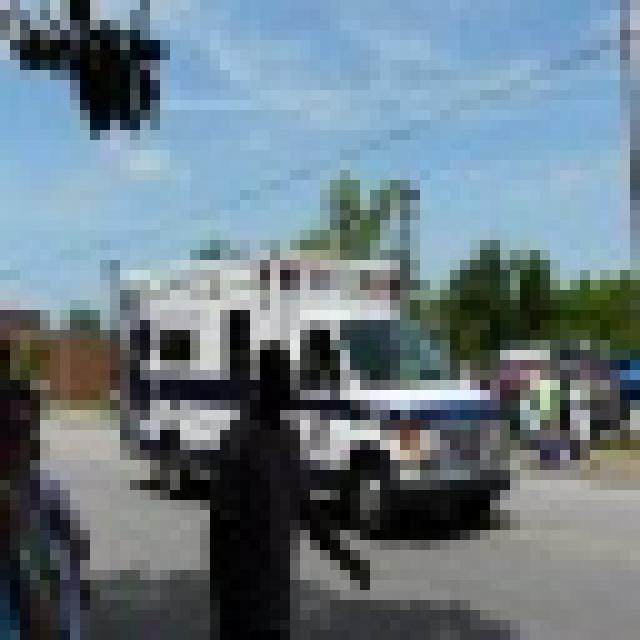Ambulance: (110, 250, 510, 530)
